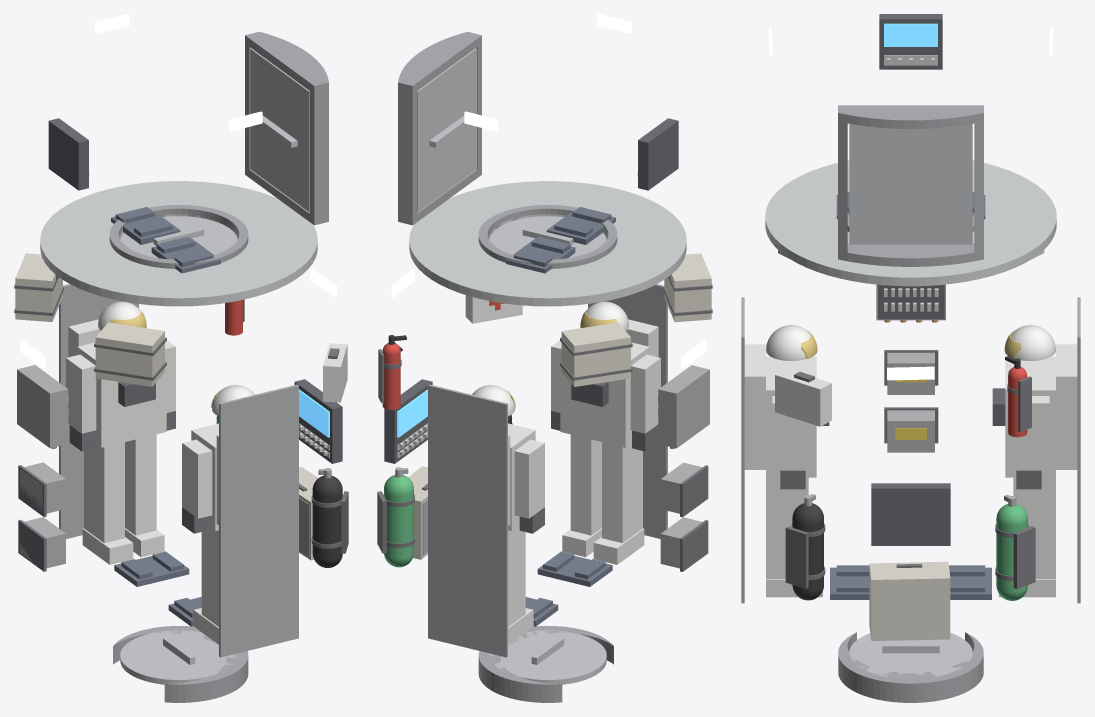
File: station04_airlock_cutaway.glb
3 renders of one model, left to right at view 1: azimuth 30°, elevation 25°; view 2: azimuth 150°, elevation 25°; view 3: azimuth 270°, elevation 25°, orthographic. The views are drawn at different scales.
Parts seen in each view (by area): view 1: inner_bulkhead, eq30_2_donning_stand, hatch_door_3, eq30_1_legs, hatch_tunnel_3, hatch_door_1, eq30_1_donning_stand, eq30_1_hut_torso, eq19_2_bag, eq06_1_enclosure, hatch_tunnel_1, eq30_1_arms (+30 smaller); view 2: inner_bulkhead, eq30_1_donning_stand, hatch_door_3, eq30_2_legs, hatch_tunnel_3, hatch_door_1, eq30_2_donning_stand, eq30_2_hut_torso, eq19_1_bag, eq06_1_enclosure, hatch_tunnel_1, eq30_2_arms (+30 smaller); view 3: inner_bulkhead, hatch_door_3, hatch_tunnel_3, eq20_1_bag, umbilical_interface_panel, hatch_tunnel_1, hatch_door_1, eq30_1_plss_backpack, eq30_2_plss_backpack, eq30_1_legs, eq30_2_legs, eq14_1_case (+26 smaller).
Part boxes in pixels (bbox=[...]): inner_bulkhead: bbox=[40, 181, 317, 306]; eq30_2_donning_stand: bbox=[219, 384, 298, 657]; hatch_door_3: bbox=[250, 48, 309, 211]; eq30_1_legs: bbox=[84, 434, 156, 543]; hatch_tunnel_3: bbox=[245, 31, 328, 225]; hatch_door_1: bbox=[120, 630, 237, 684]; eq30_1_donning_stand: bbox=[59, 284, 138, 538]; eq30_1_hut_torso: bbox=[77, 342, 166, 447]; eq19_2_bag: bbox=[95, 322, 164, 386]; eq06_1_enclosure: bbox=[17, 365, 68, 448]; hatch_tunnel_1: bbox=[113, 626, 248, 702]; eq30_1_arms: bbox=[66, 340, 175, 433]; inner_bulkhead: bbox=[409, 181, 686, 306]; eq30_1_donning_stand: bbox=[428, 384, 507, 657]; hatch_door_3: bbox=[417, 48, 476, 211]; eq30_2_legs: bbox=[570, 434, 642, 543]; hatch_tunnel_3: bbox=[398, 31, 481, 225]; hatch_door_1: bbox=[489, 630, 606, 684]; eq30_2_donning_stand: bbox=[588, 284, 667, 538]; eq30_2_hut_torso: bbox=[560, 342, 649, 447]; eq19_1_bag: bbox=[561, 322, 630, 386]; eq06_1_enclosure: bbox=[658, 365, 709, 448]; hatch_tunnel_1: bbox=[478, 626, 613, 702]; eq30_2_arms: bbox=[551, 340, 660, 433]; inner_bulkhead: bbox=[765, 160, 1056, 286]; hatch_door_3: bbox=[849, 123, 972, 244]; hatch_tunnel_3: bbox=[838, 105, 983, 266]; eq20_1_bag: bbox=[869, 561, 950, 640]; umbilical_interface_panel: bbox=[871, 483, 950, 545]; hatch_tunnel_1: bbox=[838, 632, 983, 702]; hatch_door_1: bbox=[849, 633, 972, 676]; eq30_1_plss_backpack: bbox=[1056, 344, 1077, 469]; eq30_2_plss_backpack: bbox=[744, 344, 765, 469]; eq30_1_legs: bbox=[1013, 477, 1055, 579]; eq30_2_legs: bbox=[766, 477, 808, 579]; eq14_1_case: bbox=[775, 368, 831, 426].
Size of the model in its own units: 2.26 by 4.44 by 2.14.
